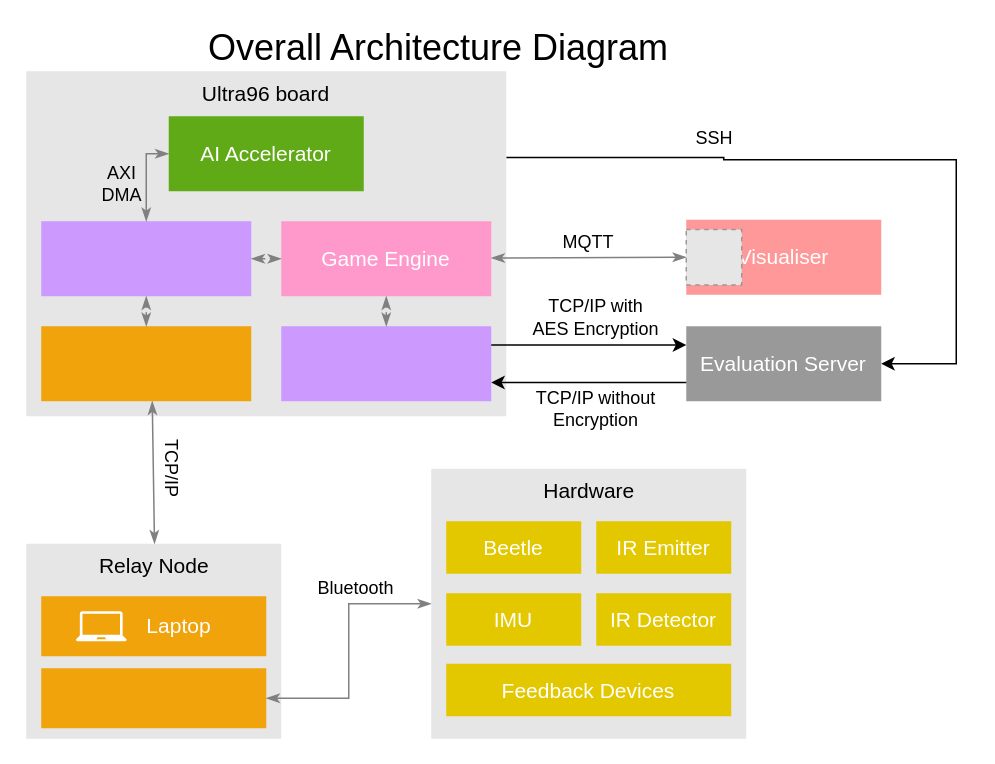
The diagram is 995 pixels wide and 764 high, and some of its shapes have lost their labels. Grey dashed boxes stand in for pictures. Each missing label, with the centre of its shape:
"Evaluation Client" goes at point 385,363.
"Memory" goes at point 145,258.
"Node Relay Client" goes at point 145,363.
"Node Relay Server" goes at point 153,698.
